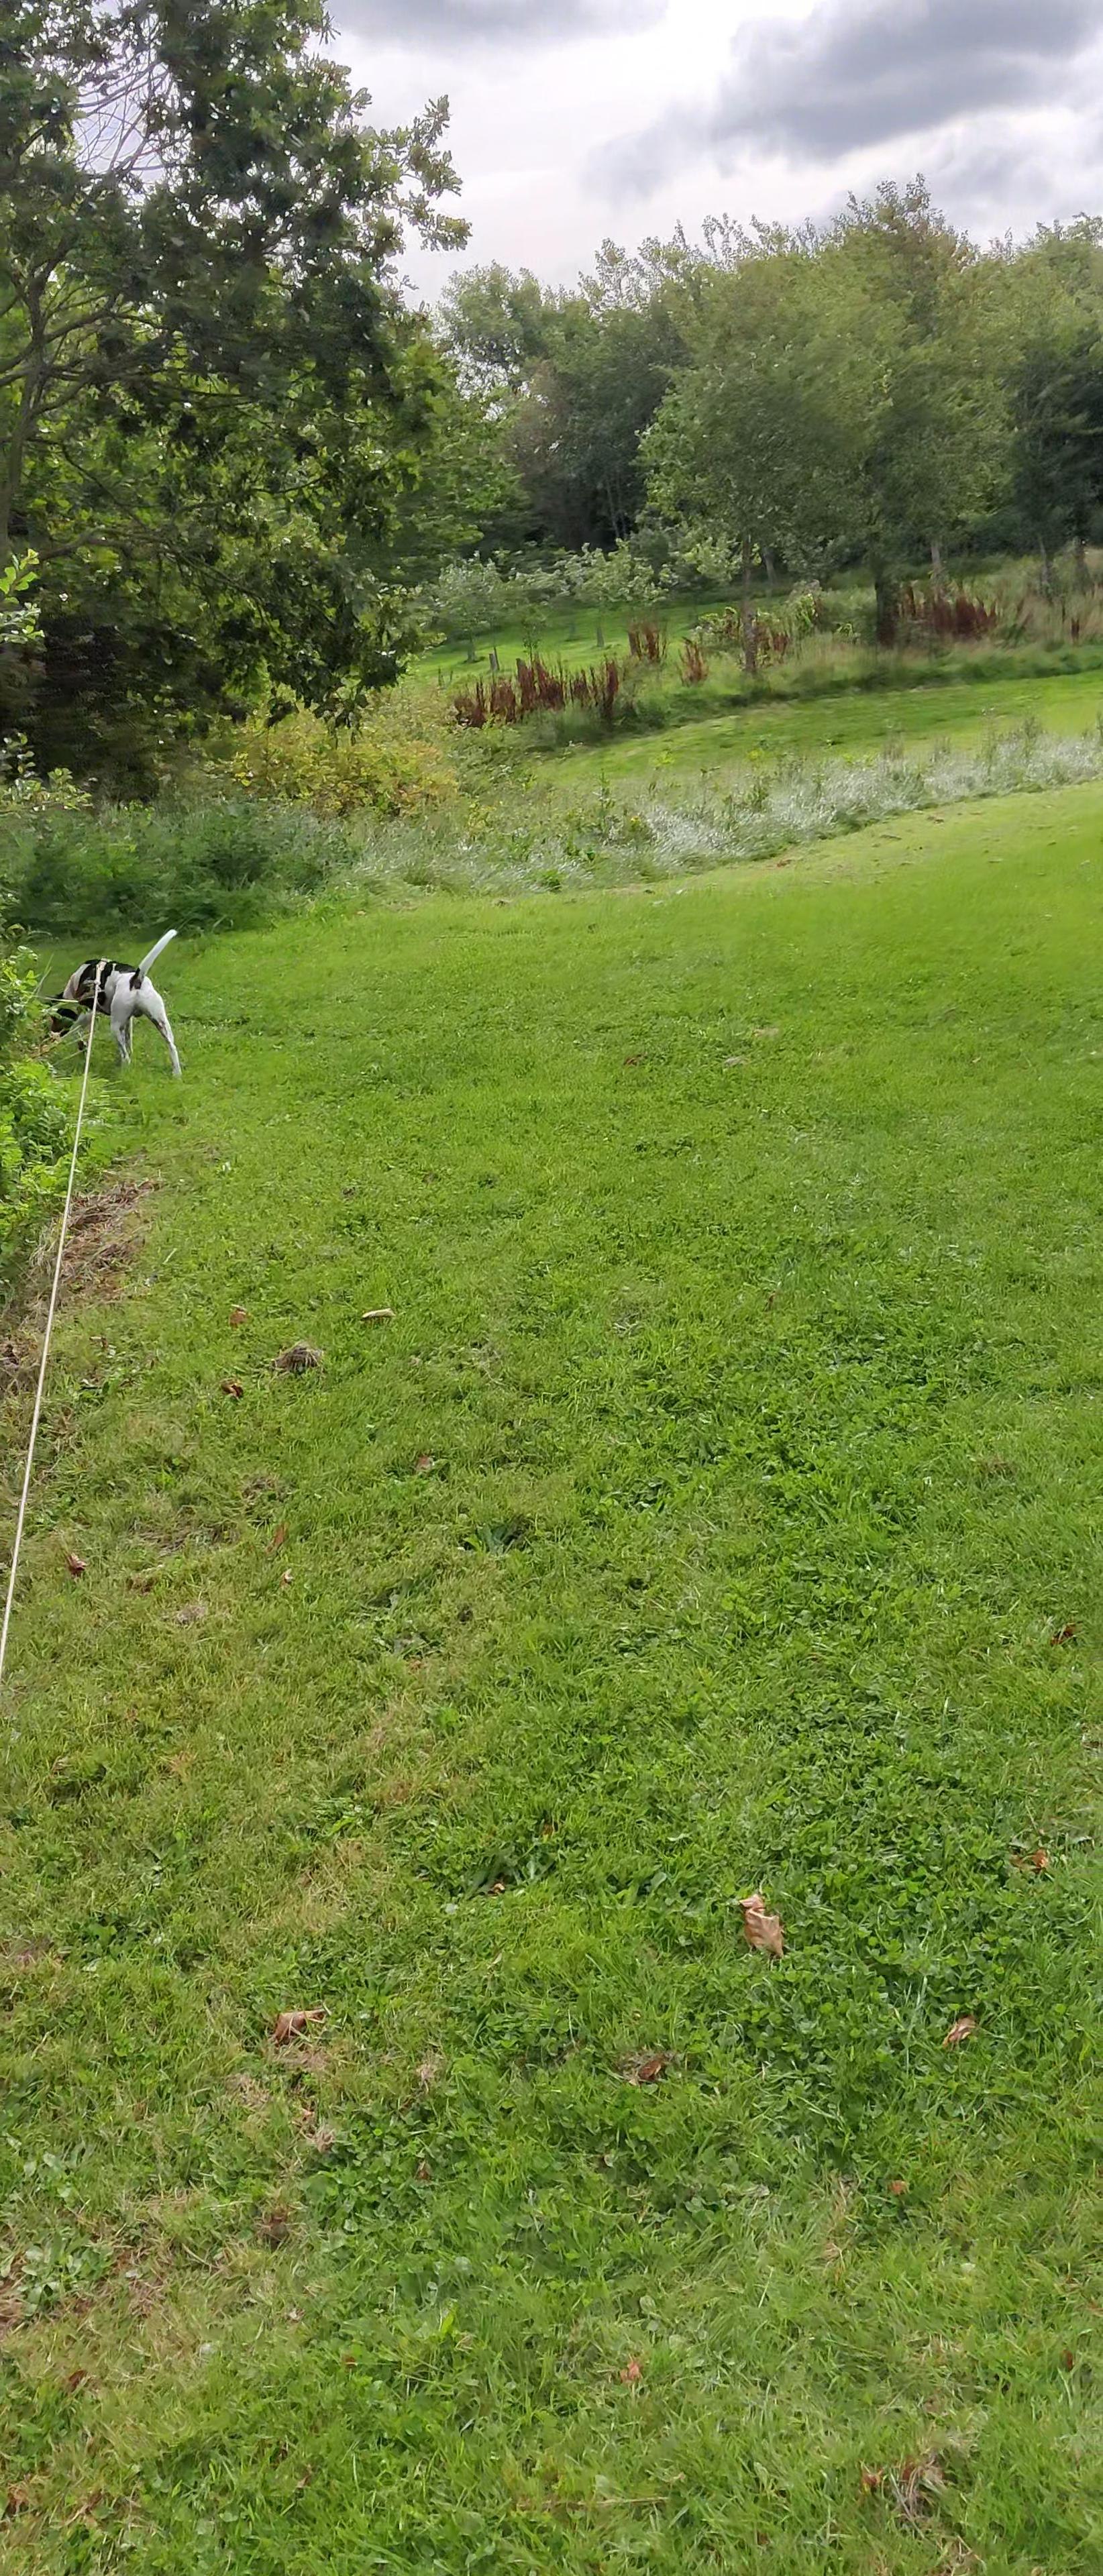Dog: (33, 918, 187, 1083)
